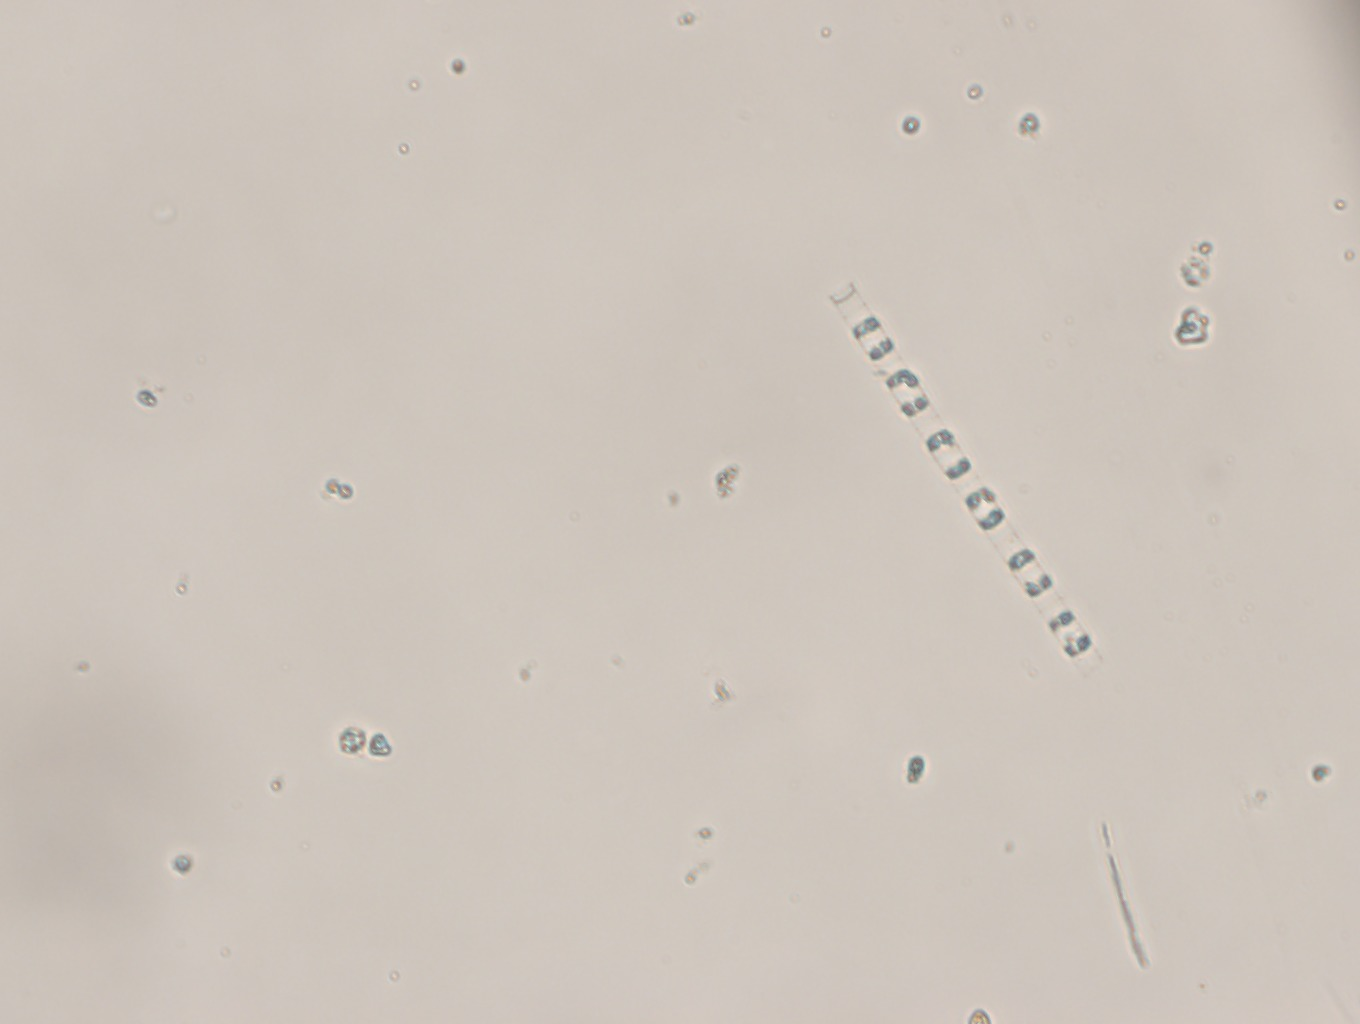skeletonema: (825, 272, 1107, 685)
